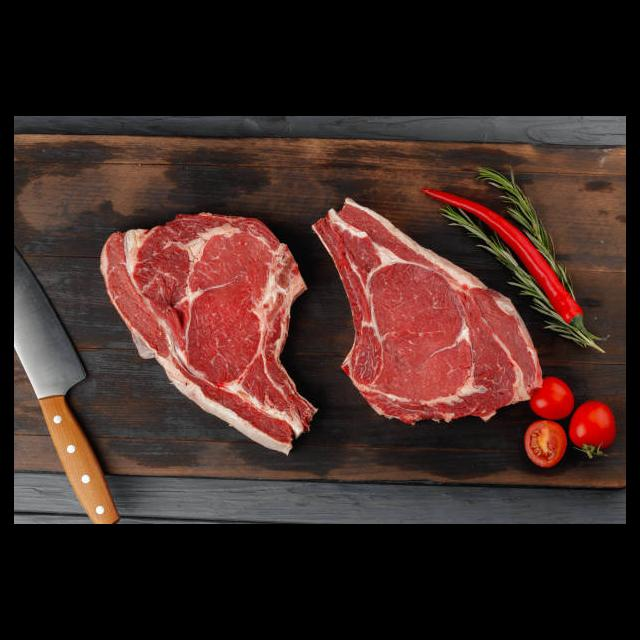beef: (98, 209, 318, 458), (316, 197, 543, 422)
